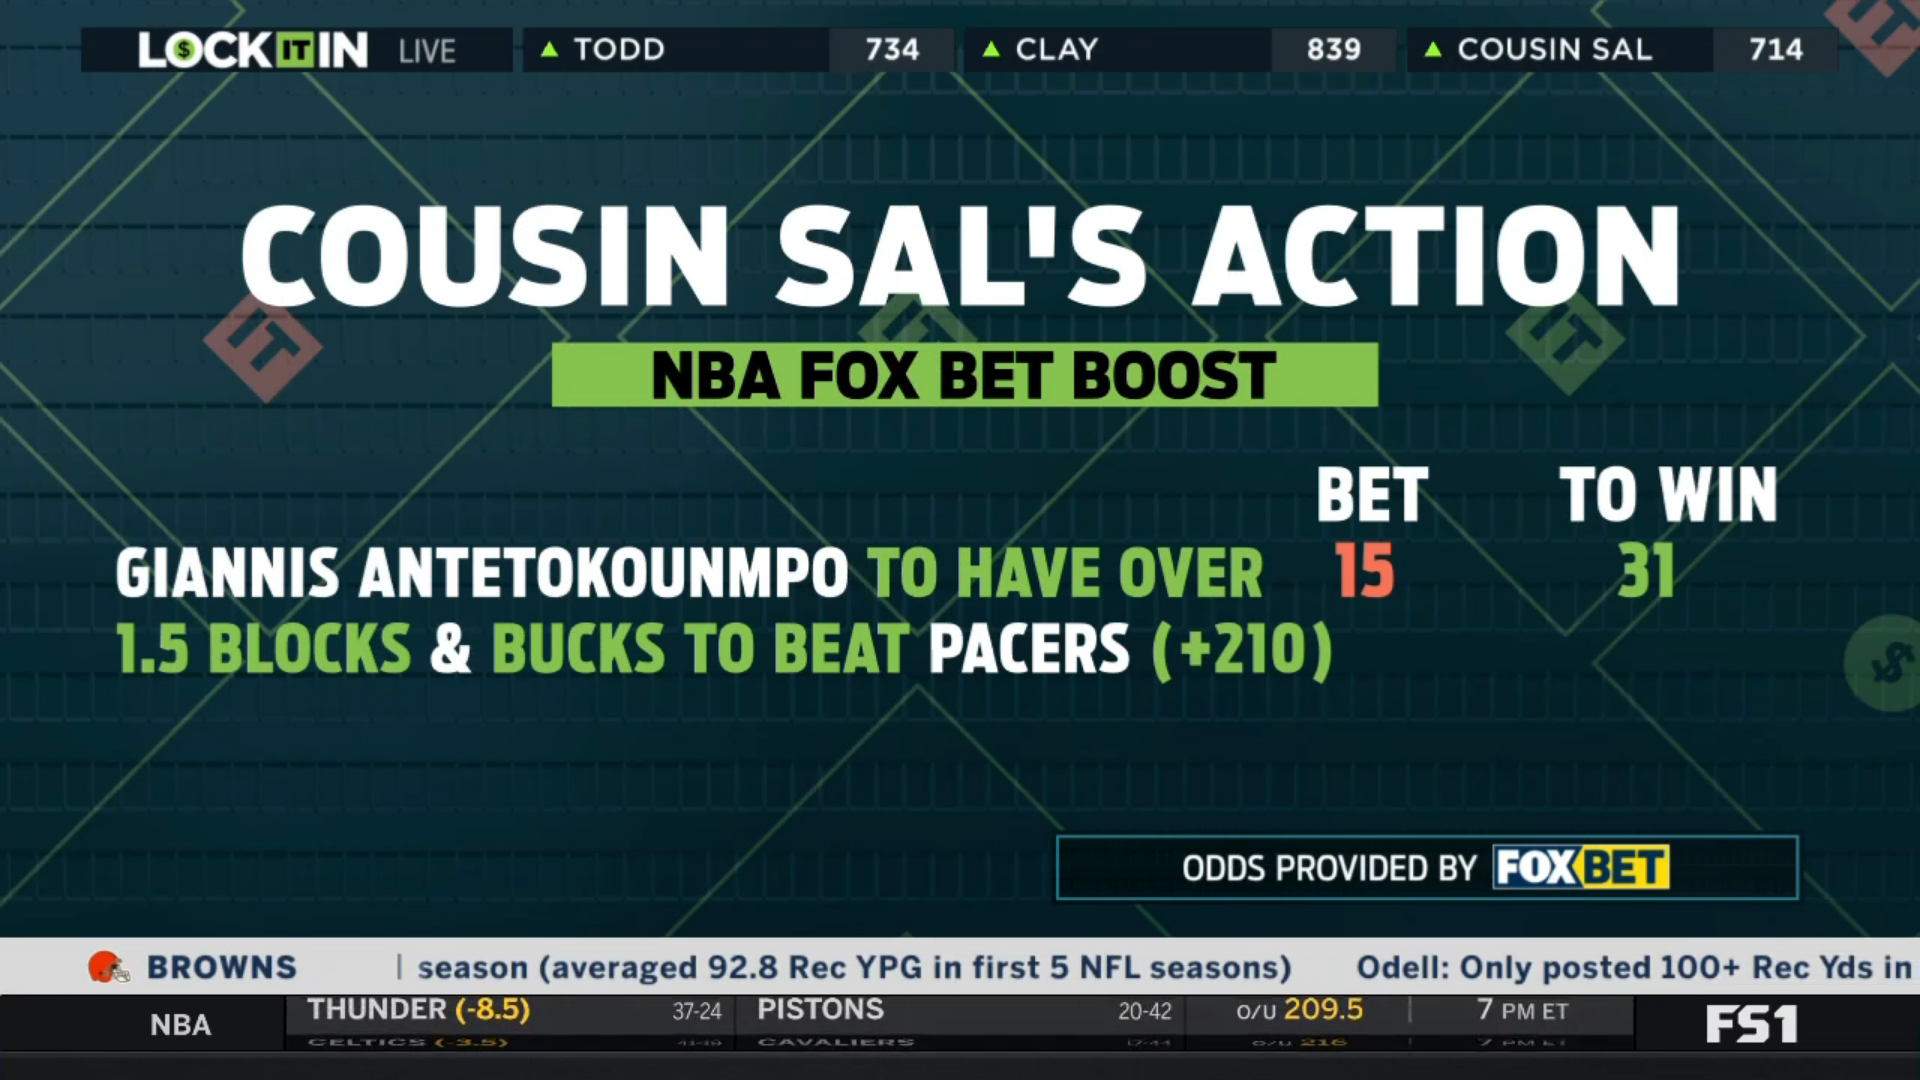Bet: (103, 533, 1335, 691)
Bet Amount: (1313, 460, 1432, 607)
Subtitle: (545, 334, 1389, 413)
Title: (233, 185, 1695, 323)
To Win: (1552, 455, 1783, 613)
Top Bar: (75, 20, 1844, 79)
